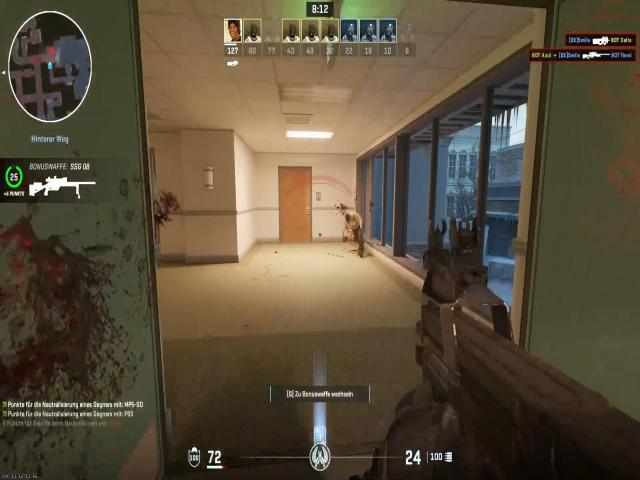Dead: (343, 210, 365, 252)
